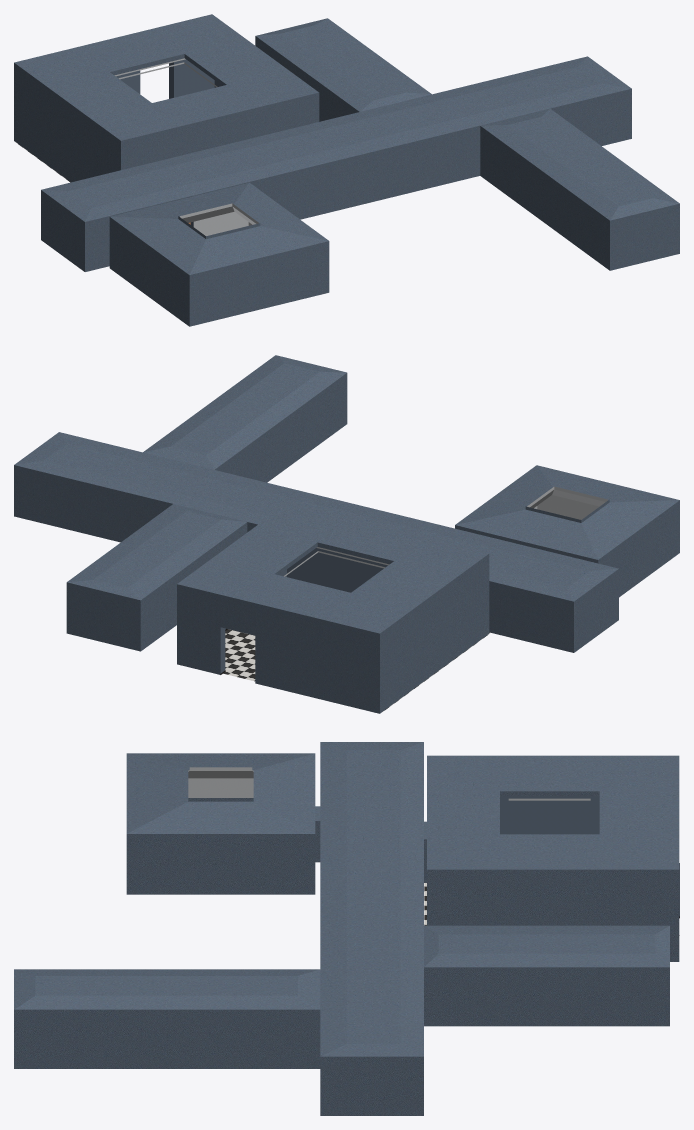
The model's file is 002LightMap.gltf.
3 views of the same model, one above another, from view 1: azimuth 30°, elevation 25°; view 2: azimuth 150°, elevation 25°; view 3: azimuth 270°, elevation 25° (orthographic). The views are drawn at different scales.
Visible parts, largest first — view 1: outWall1, Wall; view 2: outWall1, Wall, 002; view 3: outWall1, Wall.
Boxes of the visible parts, left/top/right/bottom form: outWall1: left=14, top=14, right=679, bottom=326; Wall: left=114, top=58, right=258, bottom=235; outWall1: left=14, top=355, right=679, bottom=713; Wall: left=220, top=486, right=607, bottom=674; 002: left=223, top=629, right=490, bottom=712; outWall1: left=14, top=742, right=679, bottom=1115; Wall: left=188, top=767, right=679, bottom=935.
Bounding box in the file's own units: 70.63 × 9.67 × 63.17.
